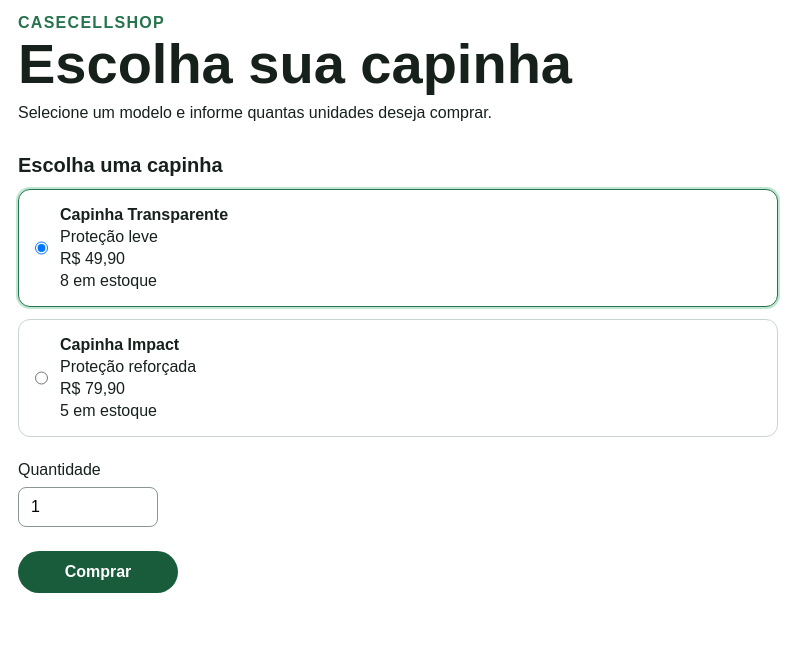
Test: CheckoutPage › polls PENDING through PROCESSING to COMPLETED, then stops and refreshes the catalog
Click the radio button labelled "Capinha Impact Proteção reforçada R$ 79,90 5 em estoque".
click(42, 378)  # box [35,336,48,420]
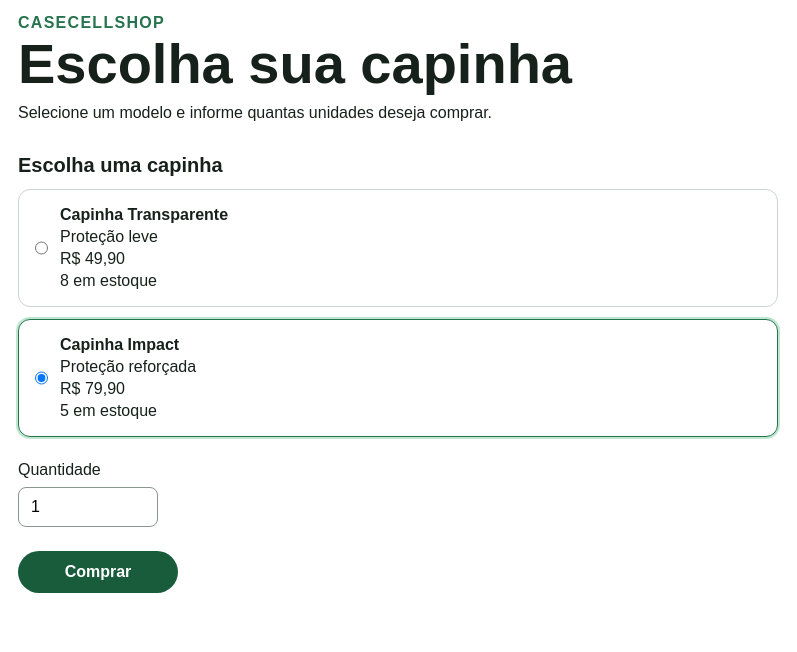
Replace the text in the number field labelled "Quantidade" with "2" at (88, 507), box [18,487,158,527]
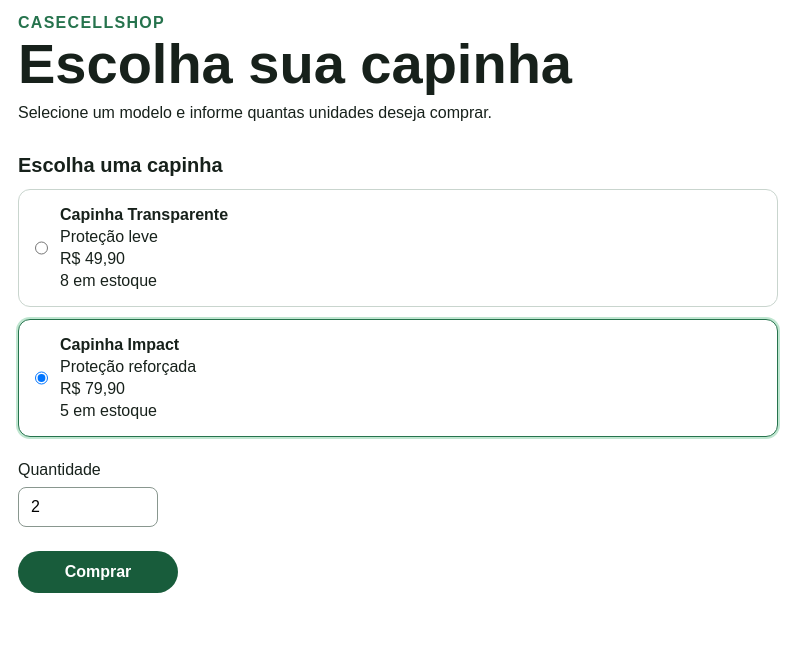
Click the button "Comprar".
click(98, 572)  # box [18,551,178,593]
Wait 5000 ms
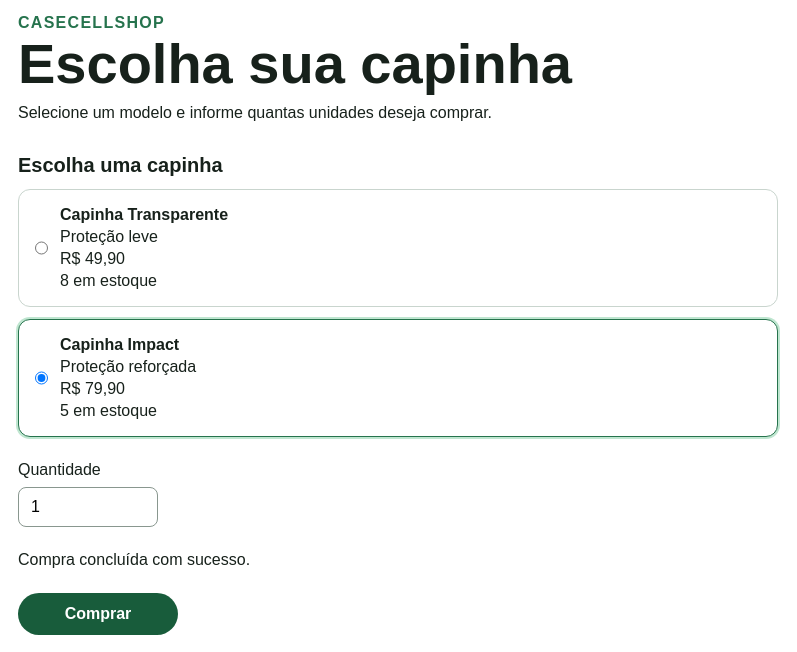
Check: the message reads "Compra concluída com sucesso.", box [18,551,250,568]
Check: the number field labelled "Quantidade" holds "1", box [18,487,158,527]
